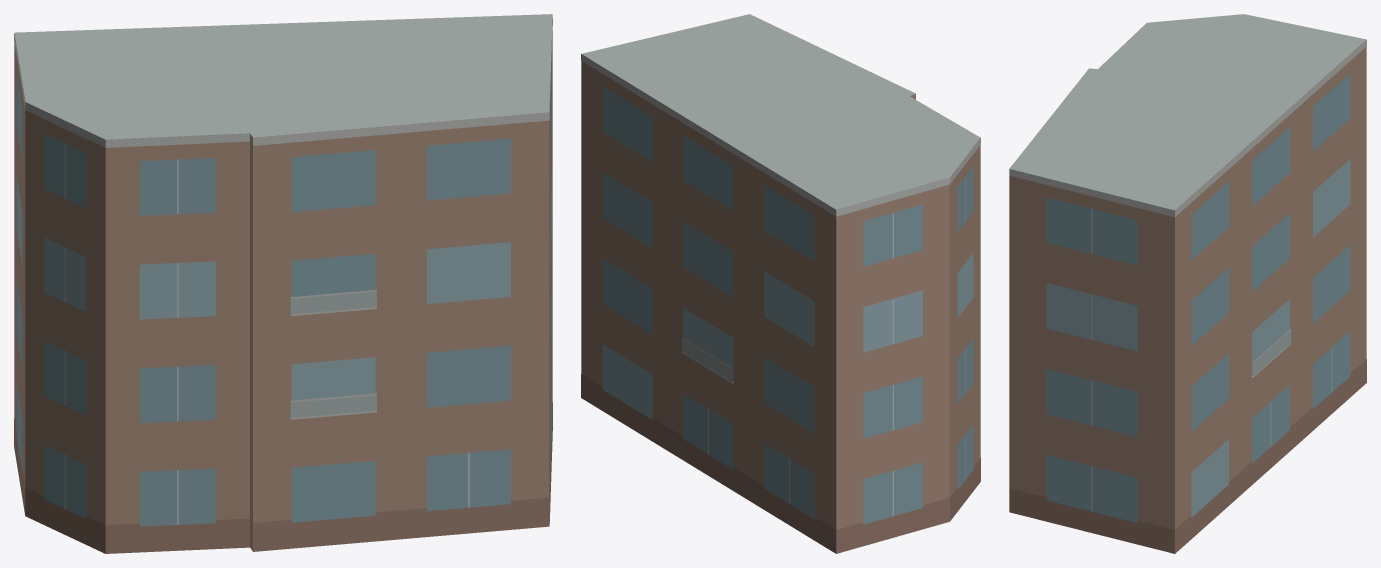
Rendered from survey-upis-32645184.glb.
The picture shows the model from 3 angles, left to right: view 1: azimuth 30°, elevation 25°; view 2: azimuth 150°, elevation 25°; view 3: azimuth 270°, elevation 25°; orthographic projection. The views are drawn at different scales.
Parts seen in each view (by area): view 1: survey-upis-32645184.tmp; view 2: survey-upis-32645184.tmp; view 3: survey-upis-32645184.tmp.
Boxes of the visible parts, bbox=[...] form: survey-upis-32645184.tmp: bbox=[14, 14, 552, 553]; survey-upis-32645184.tmp: bbox=[581, 14, 980, 553]; survey-upis-32645184.tmp: bbox=[1009, 14, 1366, 553].
Bounding box in the file's own units: 14.98 × 12.2 × 11.52.
